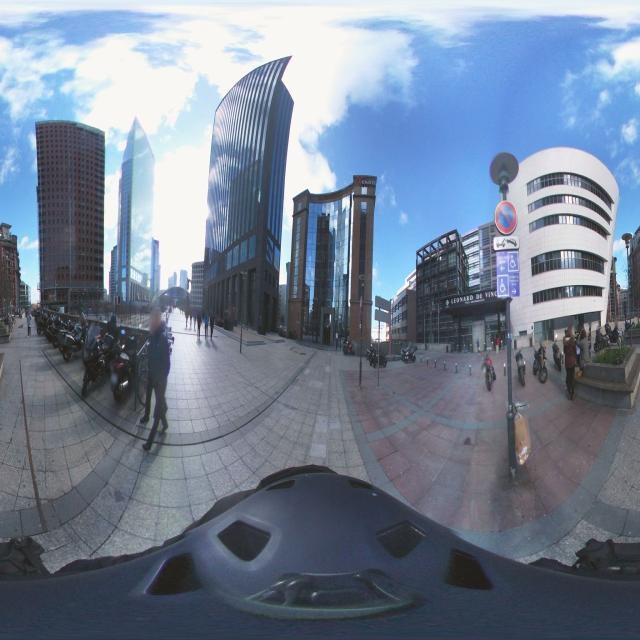car: (108, 324, 147, 402), (368, 340, 388, 368), (344, 337, 356, 355)
